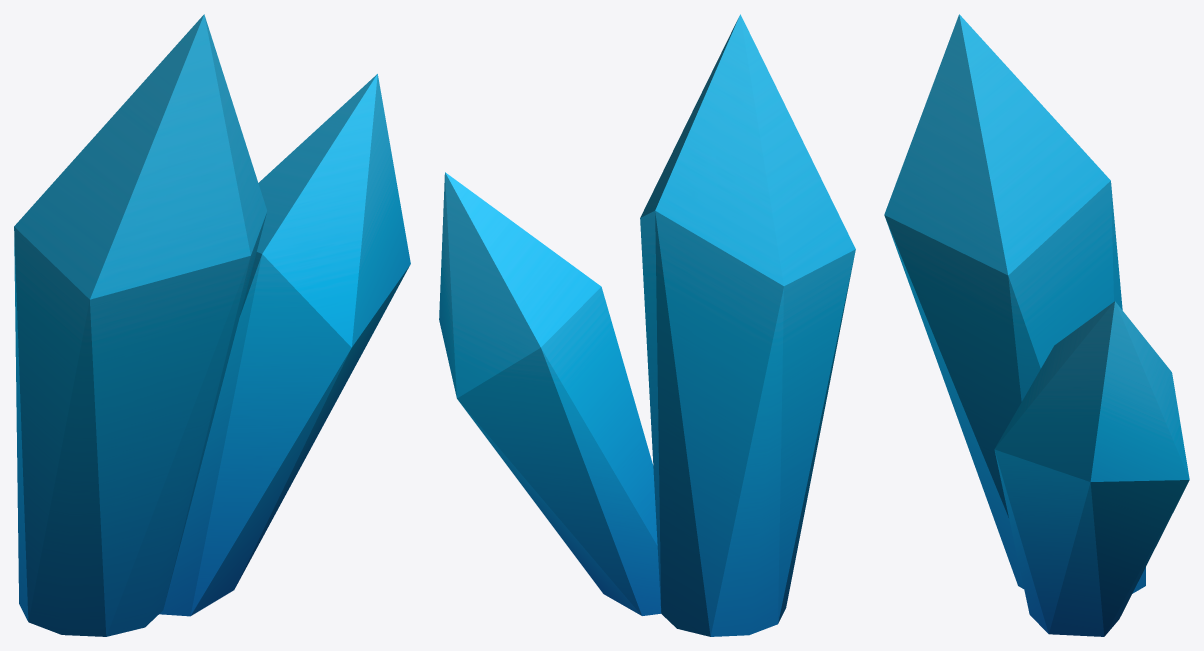
File: Crystal_blue_03.fbx
3 views of the same model, side by side, from view 1: azimuth 30°, elevation 25°; view 2: azimuth 150°, elevation 25°; view 3: azimuth 270°, elevation 25° (orthographic). The views are drawn at different scales.
Visible parts, largest first — view 1: Crystal_blue_03; view 2: Crystal_blue_03; view 3: Crystal_blue_03.
Part boxes in pixels (box(x1,y1,x2,y2)): Crystal_blue_03: box(14, 14, 410, 636); Crystal_blue_03: box(439, 14, 855, 636); Crystal_blue_03: box(884, 14, 1189, 636).
Size of the model in its own units: 108 by 165 by 76.63.
